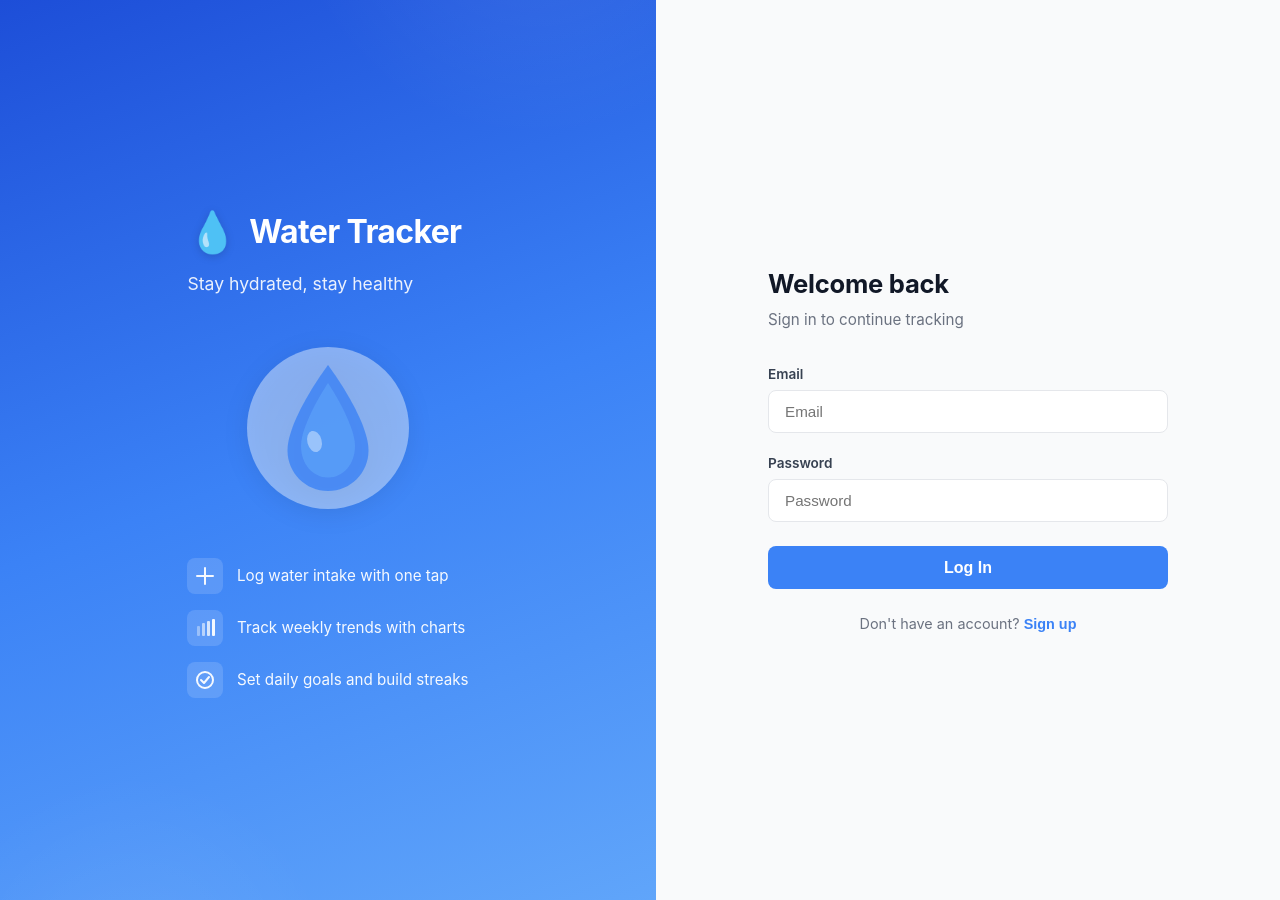
Test case: LoginPage › toggles to register mode
This screenshot has width=1280, height=900.
Click the button "Sign up" at (1050, 624), box [1024,616,1076,632]
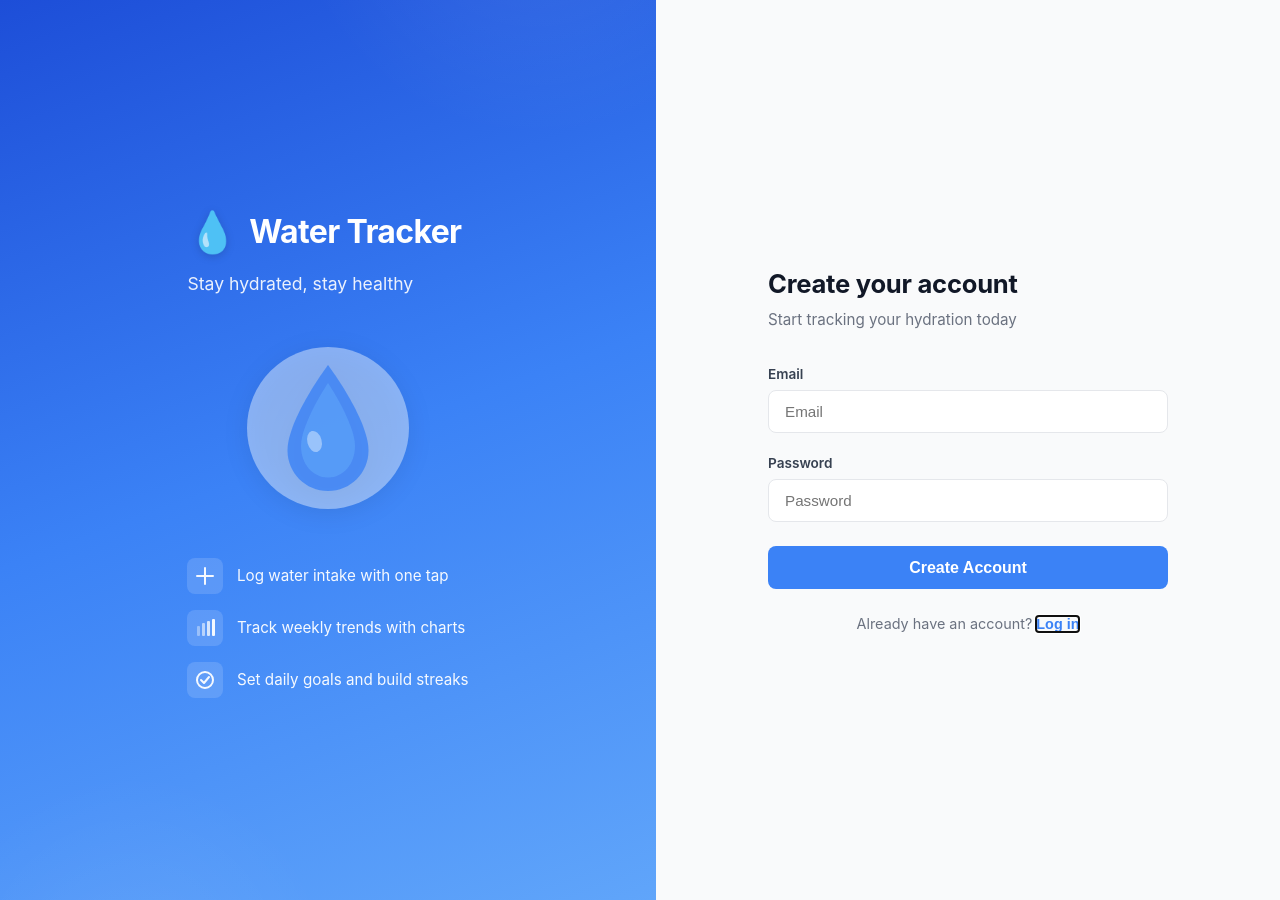
Now the button "Create Account" is shown, box [768,546,1168,589]
Now the text "Already have an account?" is shown, box [856,615,1032,632]
